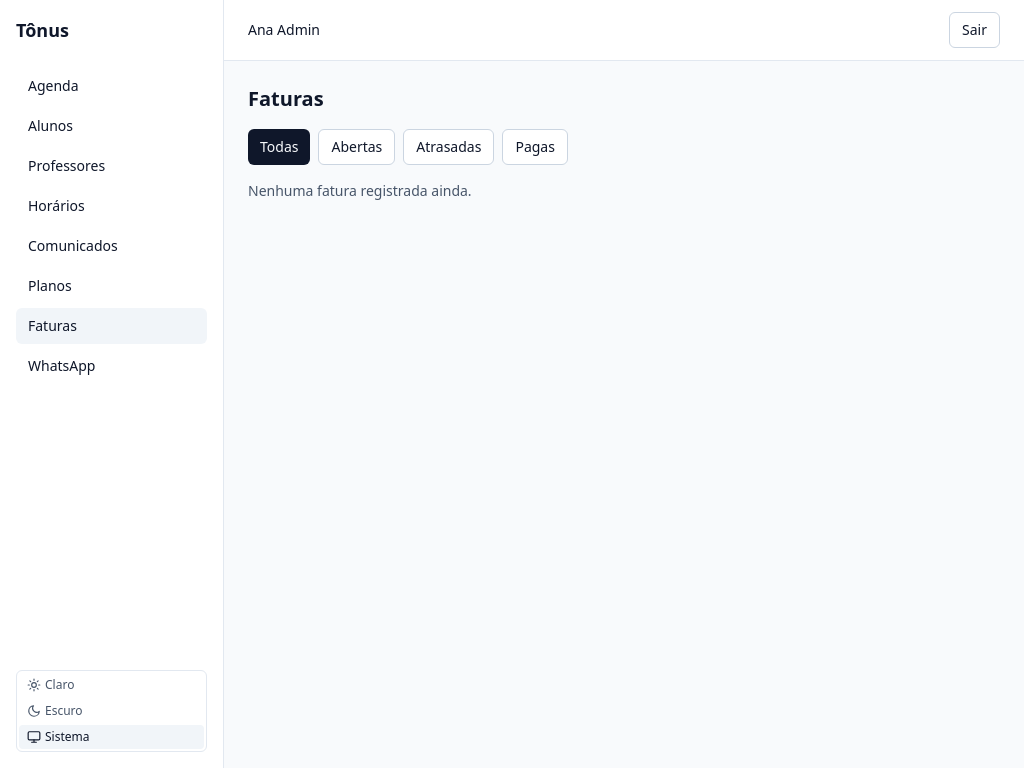
Test: lista de faturas › o vazio diz de qual filtro está falando
Click the button "Atrasadas".
click(449, 147)  # box [403,129,494,165]
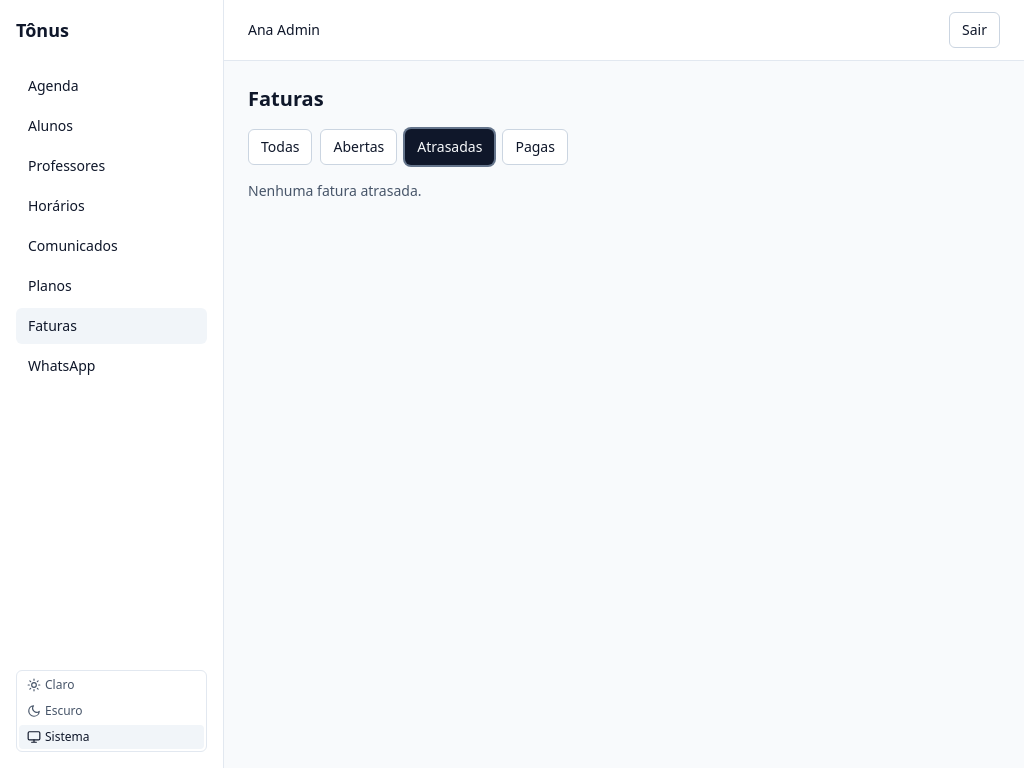
Now the text "Nenhuma fatura atrasada." is shown, box [248,181,422,200]
